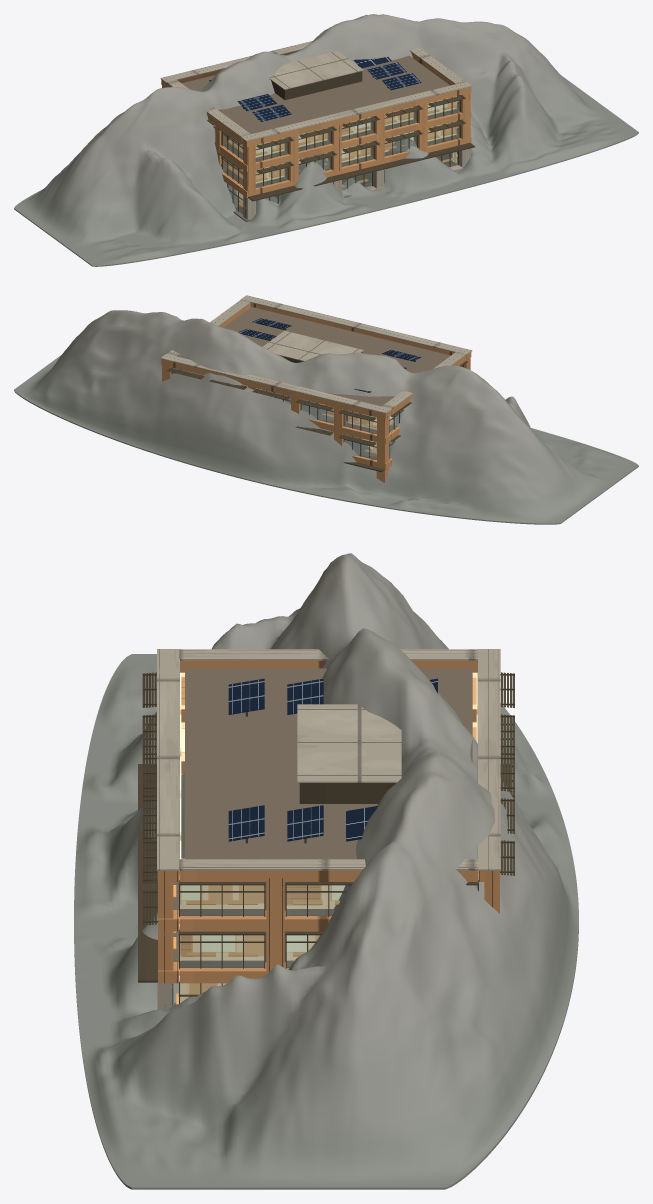
Rendered from campus_horizon_arch_v5.glb.
3 renders of one model, top to bottom at view 1: azimuth 30°, elevation 25°; view 2: azimuth 150°, elevation 25°; view 3: azimuth 270°, elevation 25°, orthographic. The views are drawn at different scales.
Visible parts, largest first — view 1: Santa_Cruz_Ridgeline_Mesh_V5, Campus_Office_Pavilion_Arch_V5, Campus_Office_Pavilion_Glass_V5; view 2: Santa_Cruz_Ridgeline_Mesh_V5, Campus_Office_Pavilion_Arch_V5, Campus_Office_Pavilion_Glass_V5; view 3: Santa_Cruz_Ridgeline_Mesh_V5, Campus_Office_Pavilion_Arch_V5, Campus_Office_Pavilion_Glass_V5.
Boxes of the visible parts, <box> form: Santa_Cruz_Ridgeline_Mesh_V5: <box>14,14,638,266</box>; Campus_Office_Pavilion_Arch_V5: <box>160,41,475,221</box>; Campus_Office_Pavilion_Glass_V5: <box>213,95,459,213</box>; Santa_Cruz_Ridgeline_Mesh_V5: <box>14,310,638,524</box>; Campus_Office_Pavilion_Arch_V5: <box>160,295,472,482</box>; Campus_Office_Pavilion_Glass_V5: <box>172,366,462,459</box>; Santa_Cruz_Ridgeline_Mesh_V5: <box>74,553,578,1189</box>; Campus_Office_Pavilion_Arch_V5: <box>138,649,514,1010</box>; Campus_Office_Pavilion_Glass_V5: <box>180,885,477,1002</box>.
Bounding box in the file's own units: 86 × 16.73 × 34.4.
Materials: 4 (4 with a texture image).
